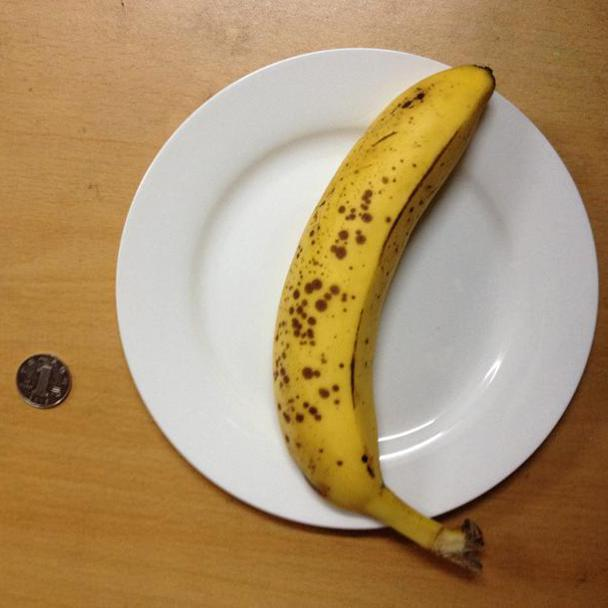banana: (282, 58, 498, 568)
